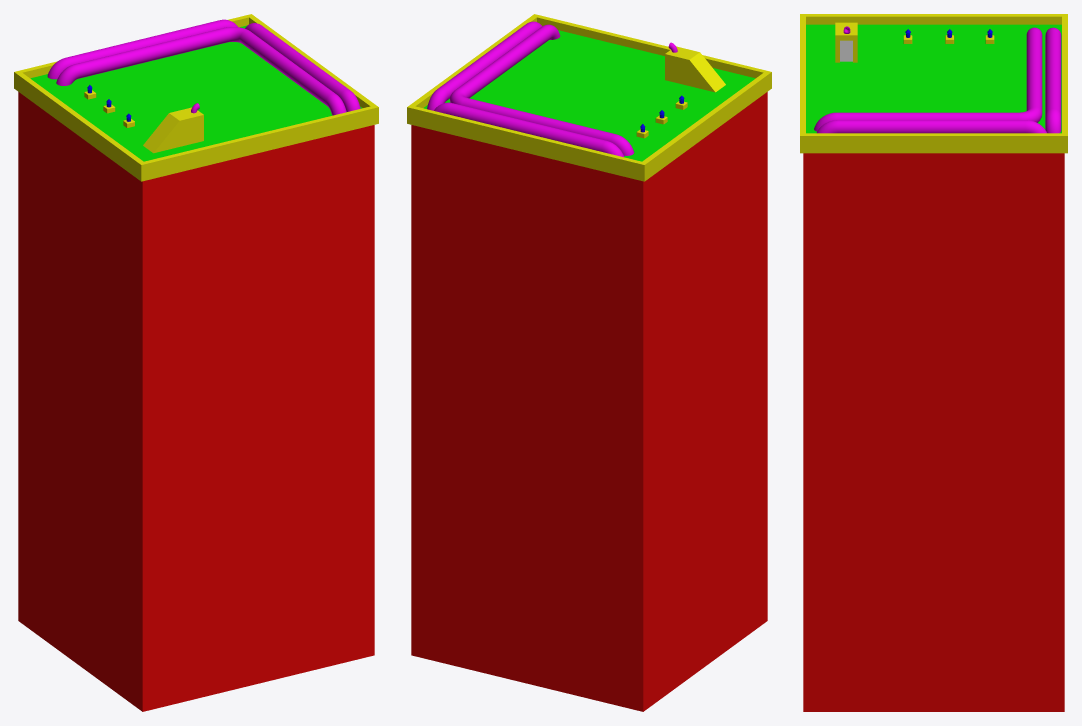
Rendered from Building_Garage_.fbx.
3 renders of one model, left to right at view 1: azimuth 30°, elevation 25°; view 2: azimuth 150°, elevation 25°; view 3: azimuth 270°, elevation 25°, orthographic. The views are drawn at different scales.
Parts seen in each view (by area): view 1: polySurface10, polySurface9, polySurface8, polySurface5, polySurface3; view 2: polySurface10, polySurface9, polySurface8, polySurface5, polySurface3; view 3: polySurface10, polySurface9, polySurface8, polySurface3, polySurface5.
Part boxes in pixels (<box>): polySurface10: <box>18,92,374,711</box>; polySurface9: <box>14,14,378,181</box>; polySurface8: <box>56,27,346,115</box>; polySurface5: <box>47,19,237,79</box>; polySurface3: <box>245,23,360,111</box>; polySurface10: <box>411,92,767,711</box>; polySurface9: <box>407,14,771,181</box>; polySurface8: <box>450,24,634,155</box>; polySurface5: <box>434,102,624,157</box>; polySurface3: <box>427,21,542,110</box>; polySurface10: <box>803,153,1064,711</box>; polySurface9: <box>800,14,1067,153</box>; polySurface8: <box>814,27,1042,131</box>; polySurface3: <box>817,120,1046,133</box>; polySurface5: <box>1045,27,1061,133</box>.
Size of the model in its own units: 19.49 by 45.07 by 18.09.
